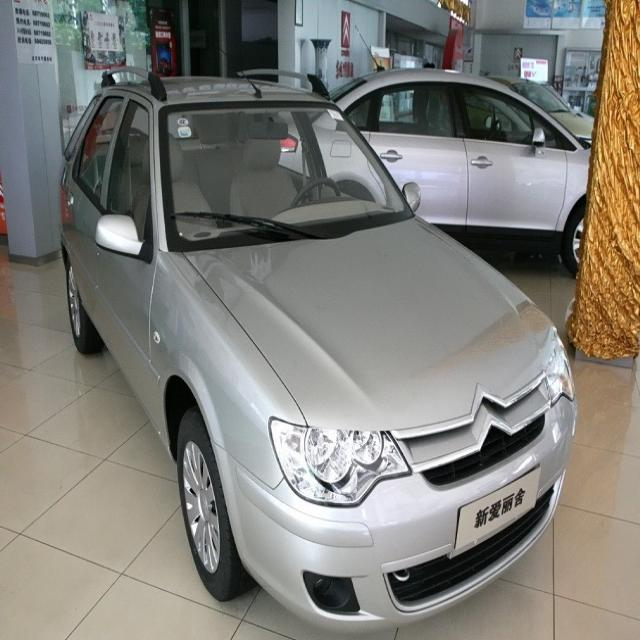front_bumper: (215, 405, 574, 633)
front_glass: (158, 98, 412, 252)
front_left_side_light: (542, 336, 580, 412)
front_left_side_mirror: (399, 176, 423, 211)
front_right_side_door: (89, 86, 163, 428)
front_right_side_light: (268, 414, 412, 511)
front_right_side_mirror: (94, 206, 145, 259)
wheel: (176, 412, 234, 604), (66, 260, 96, 349)
